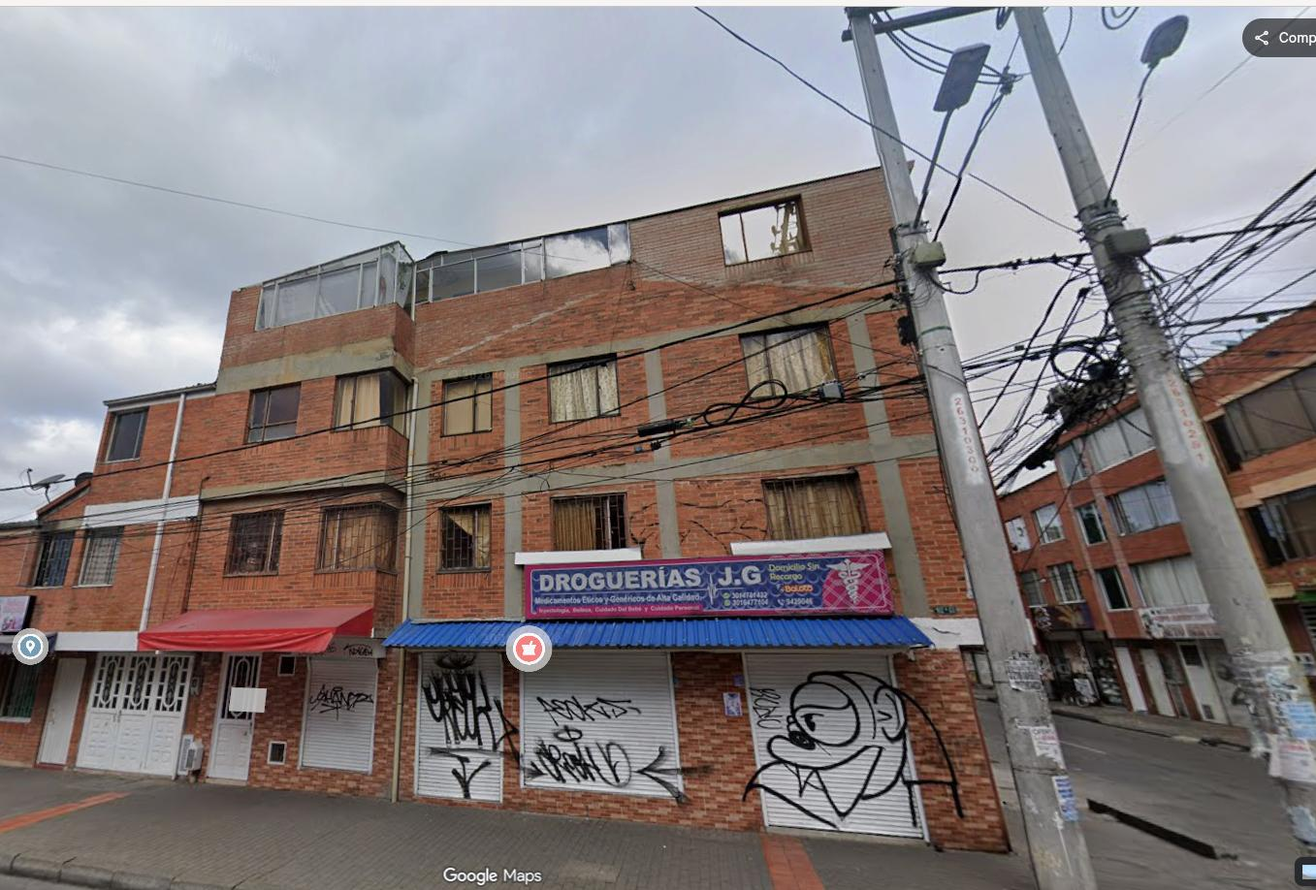casa: (376, 171, 1008, 848), (144, 256, 416, 796), (0, 384, 216, 768)
poste: (1013, 7, 1315, 756), (847, 8, 1096, 889), (996, 678, 1096, 889), (928, 44, 988, 167), (1275, 768, 1315, 854)
